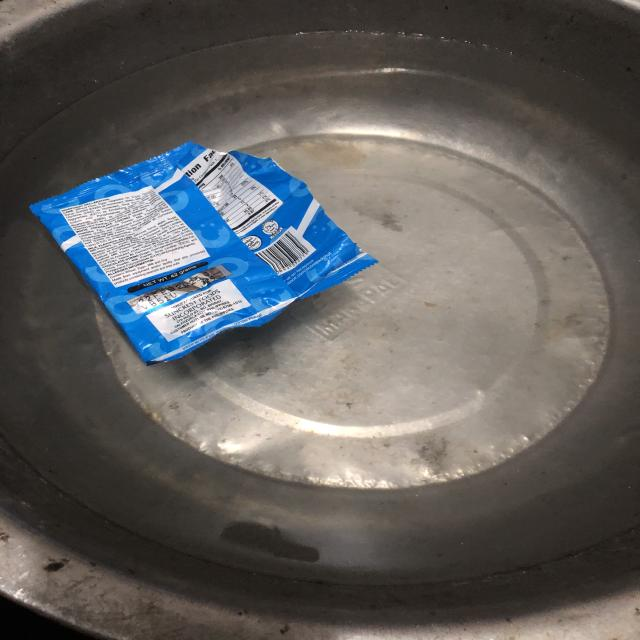Plastic Wrapper: (13, 134, 382, 378)
